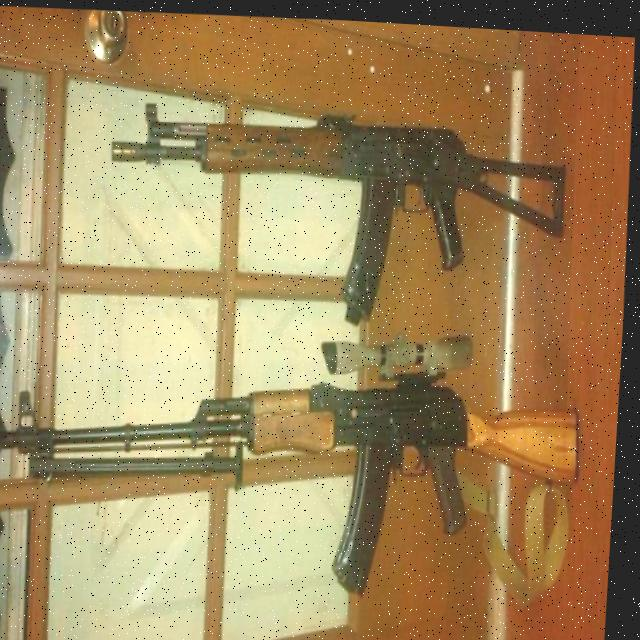firearm: (0, 308, 588, 610), (103, 90, 574, 336)
